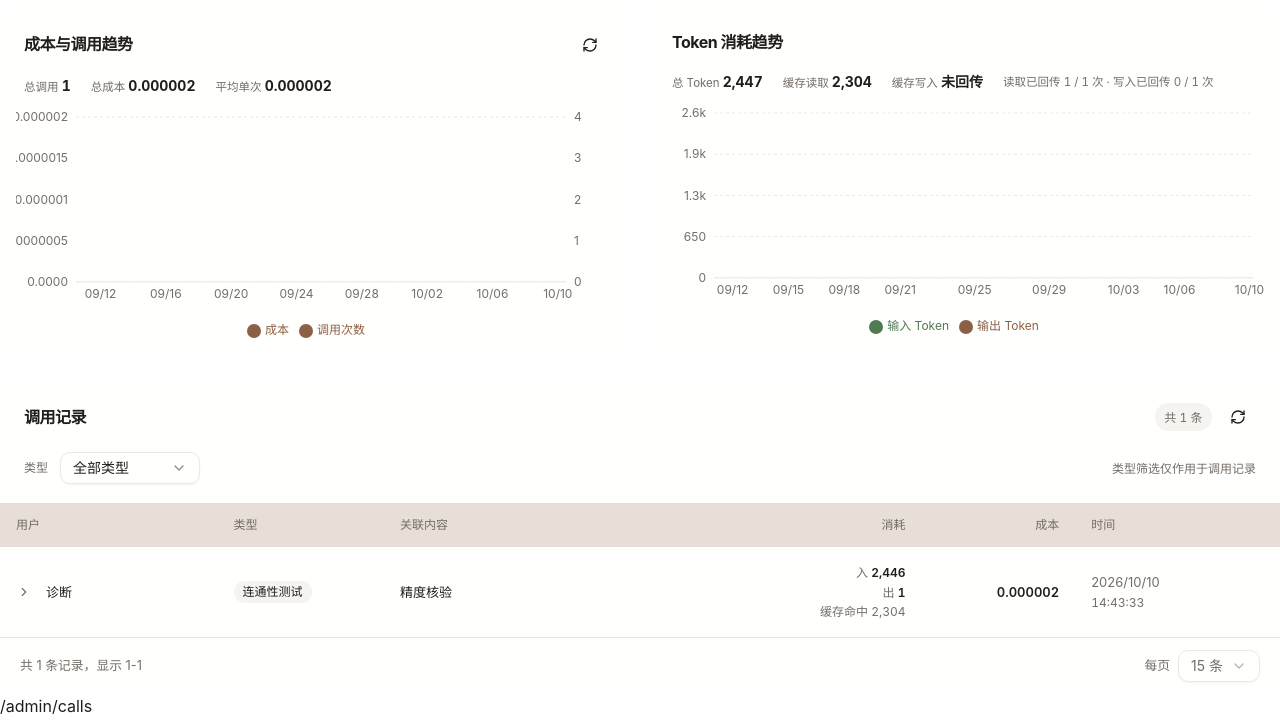
monitoring navigation › 微小账单金额在记录和趋势中保留精度，详情显示可追溯来源
(page scrolled)
Expected: the text "精度核验" is shown, [400, 584, 452, 600]
Click the button named "诊断 连通性测试 2026/10/10 14:43:33 的调用详情".
click(24, 592)  # box [10, 578, 38, 606]
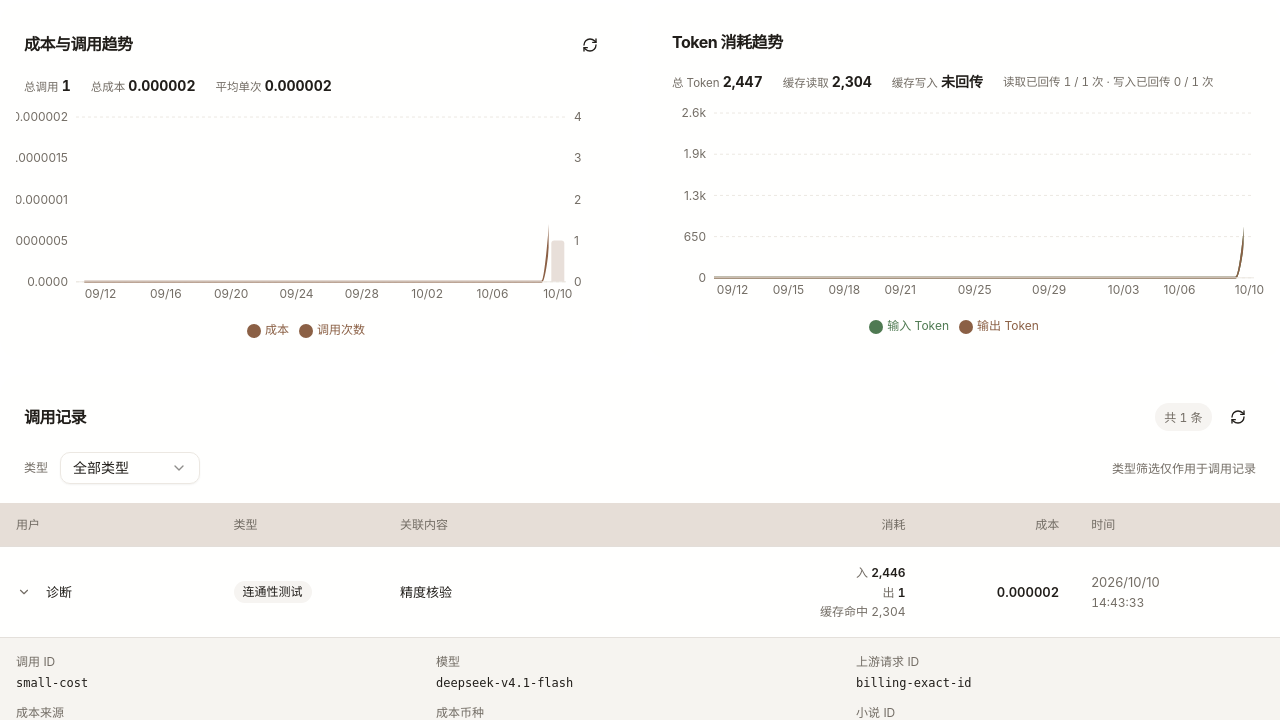
Expected: the text "缓存命中 2,304" is shown, [820, 604, 906, 619]
Now the text "billing-exact-id" is shown, box [856, 676, 972, 690]
